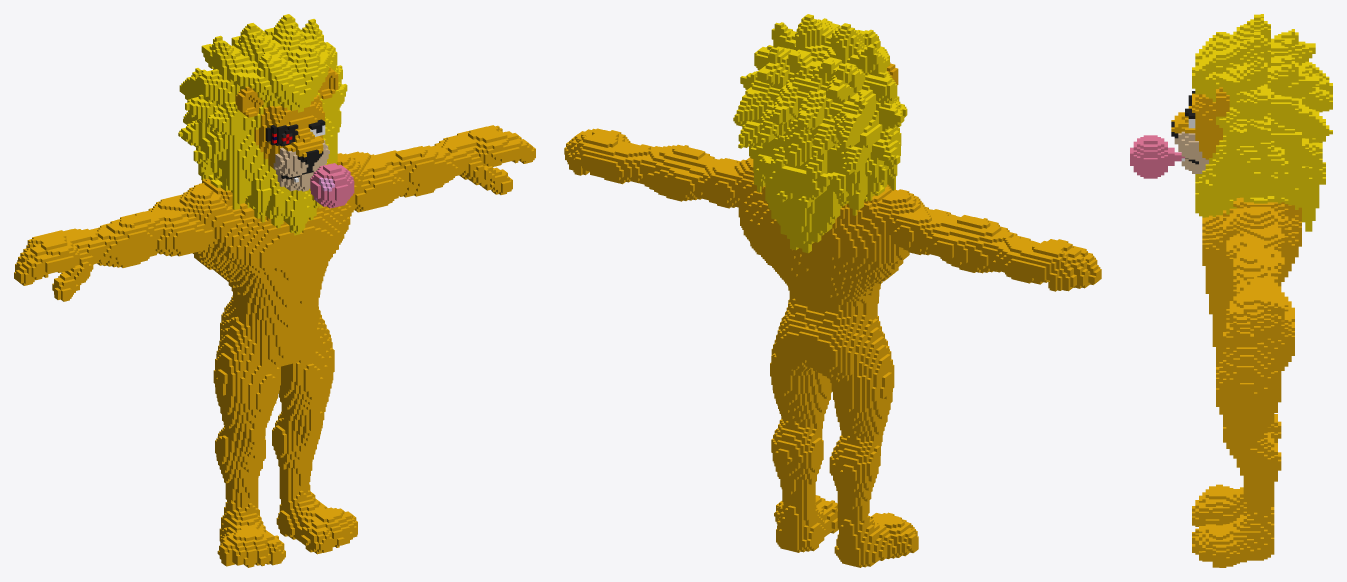
File: 351-BDJHzOby.glb
The picture shows the model from 3 angles, left to right: view 1: azimuth 30°, elevation 25°; view 2: azimuth 150°, elevation 25°; view 3: azimuth 270°, elevation 25°; orthographic projection. The views are drawn at different scales.
Parts seen in each view (by area): view 1: bubble_gum; view 2: bubble_gum; view 3: bubble_gum.
Boxes of the visible parts, x1,y1,x2,y2 form: bubble_gum: (14,14,535,567); bubble_gum: (564,14,1101,567); bubble_gum: (1130,14,1332,567).
Size of the model in its own units: 17.2 by 16.5 by 5.9.
4 materials, 4 textured.
